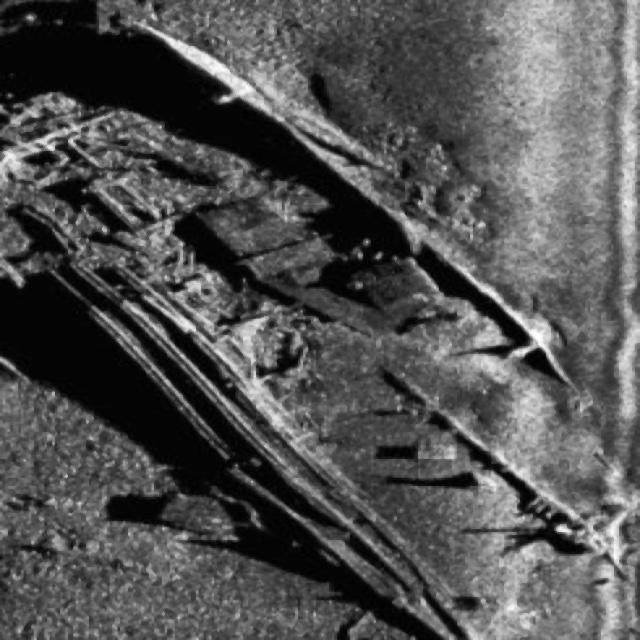Ship: (8, 1, 636, 640)
